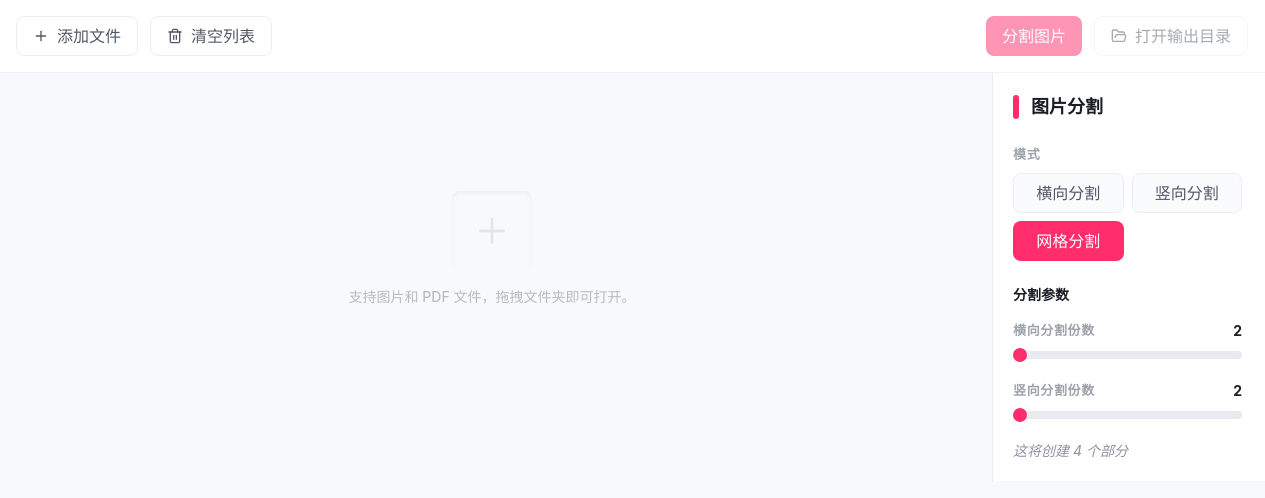
Test case: SplitImagePage › imports files and folders and defaults output directory
The width and height of the screenshot is (1265, 498).
Click the button "添加文件" at {"x": 77, "y": 36}, box [16,16,138,56]
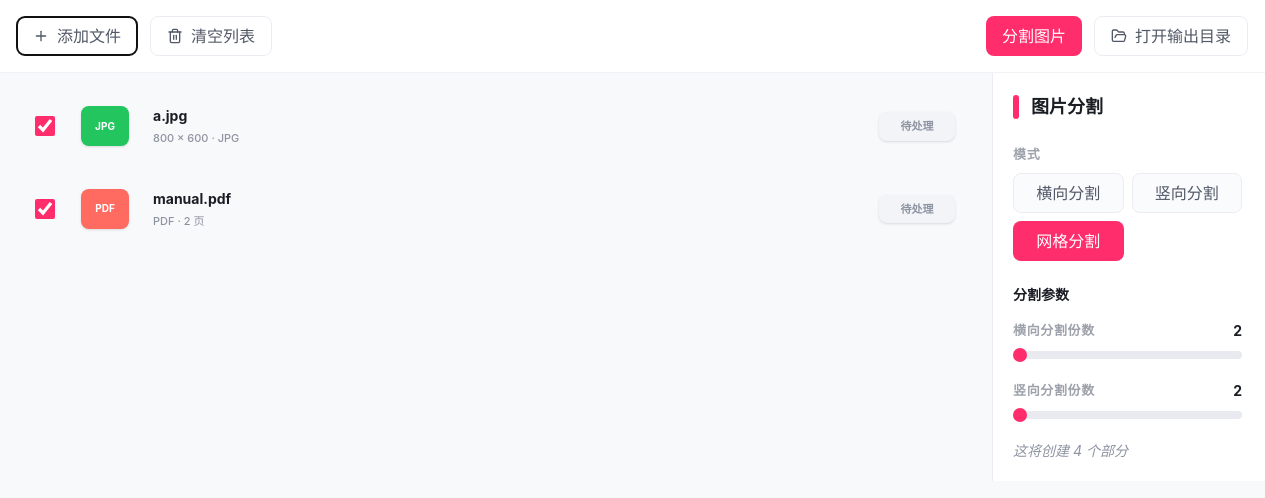
Expected: the text "a.jpg" is shown, [153,107,187,124]
Expected: the text "manual.pdf" is shown, [153,190,231,206]
Expected: the button "打开输出目录" is enabled, [1094,16,1248,56]
